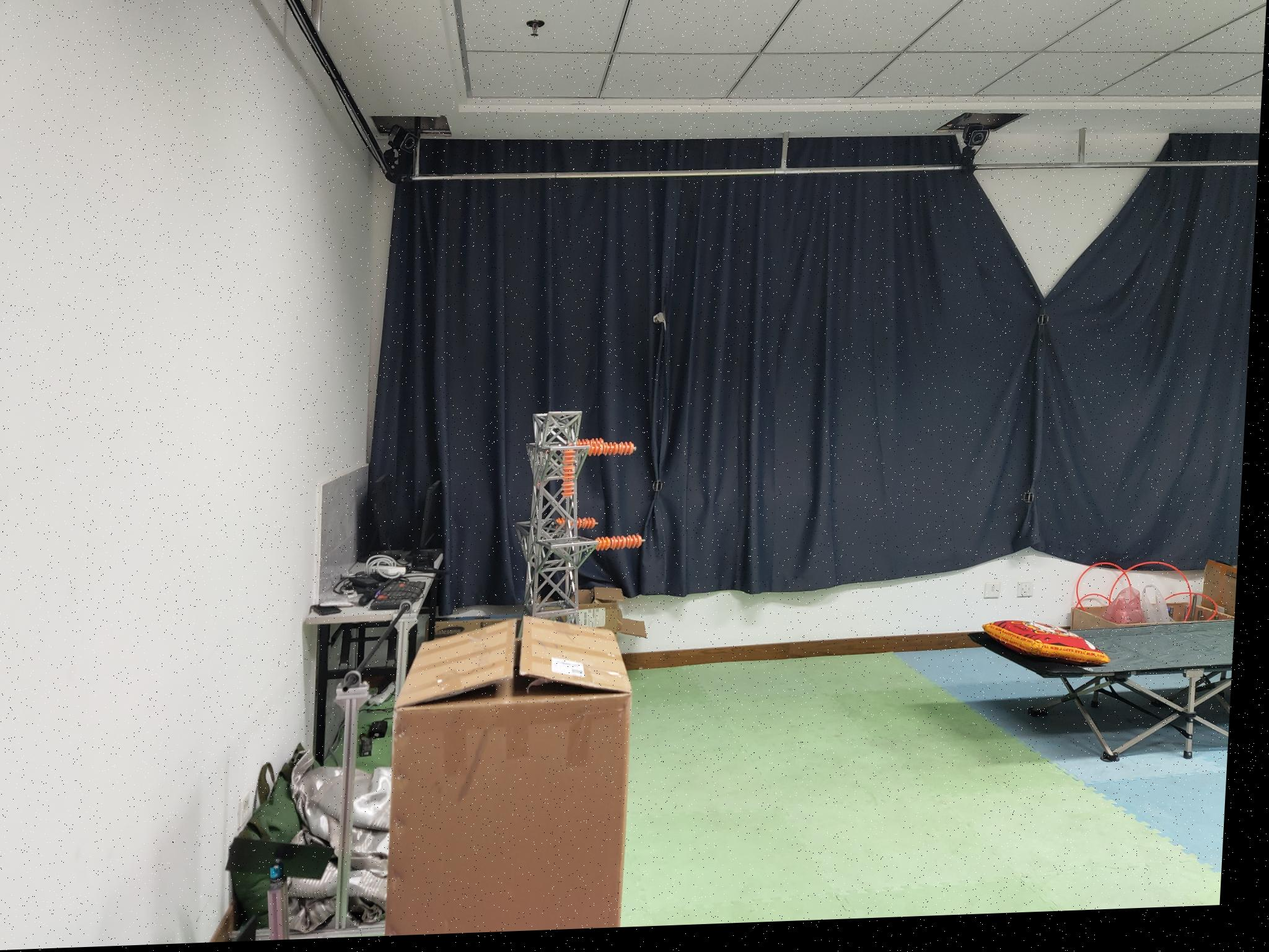tower: (505, 408, 603, 618)
